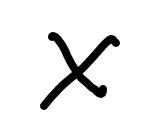mult: (39, 33, 120, 109)
